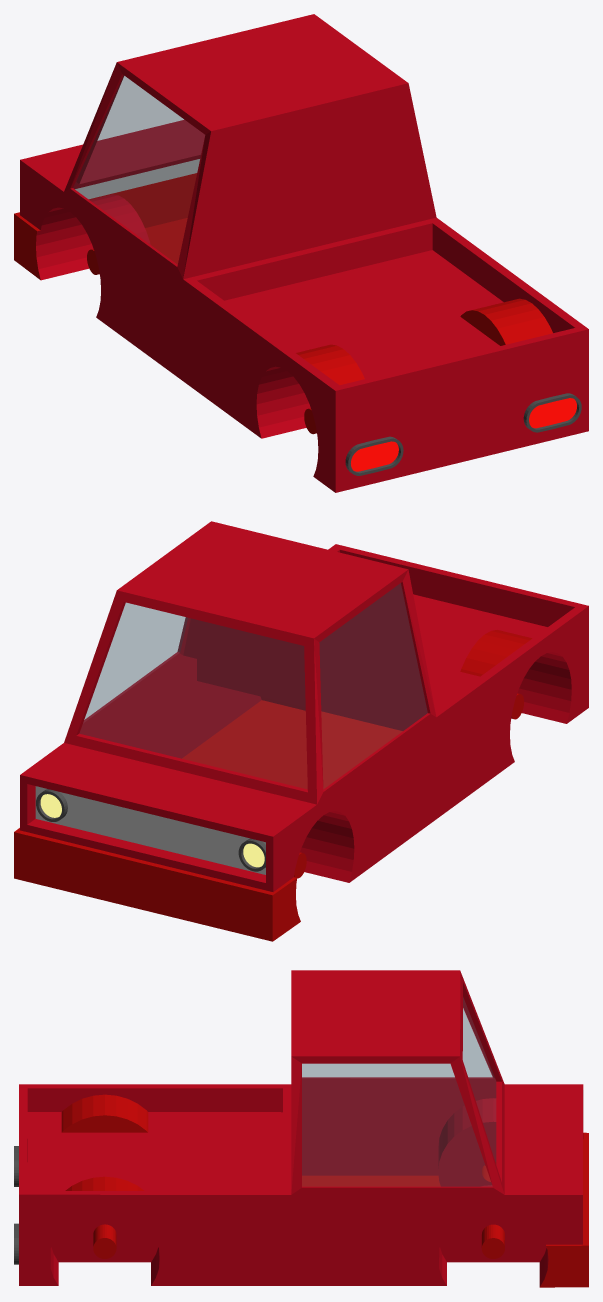
File: car-chassis.glb
The picture shows the model from 3 angles, top to bottom: view 1: azimuth 30°, elevation 25°; view 2: azimuth 150°, elevation 25°; view 3: azimuth 270°, elevation 25°; orthographic projection. The views are drawn at different scales.
Visible parts, largest first — view 1: Cube.002; view 2: Cube.002; view 3: Cube.002.
Boxes of the visible parts, x1,y1,x2,y2 form: Cube.002: (14,14,588,492); Cube.002: (14,521,588,941); Cube.002: (14,970,588,1287).
Bounding box in the file's own units: 4.11 × 3.67 × 8.8.
